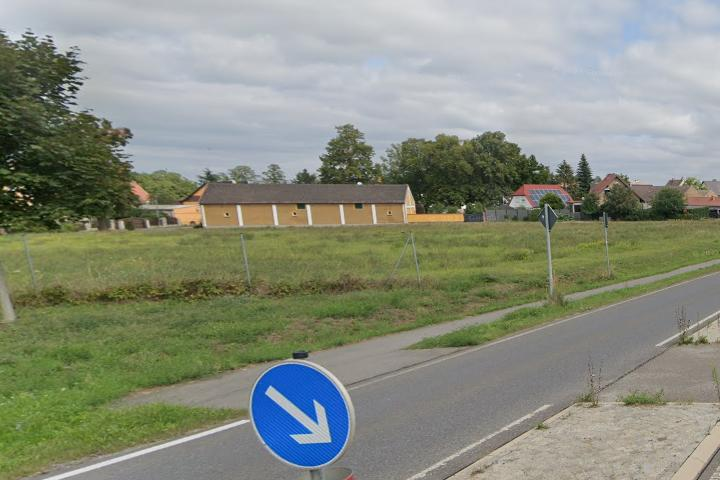traffic_sign: (249, 359, 356, 470)
